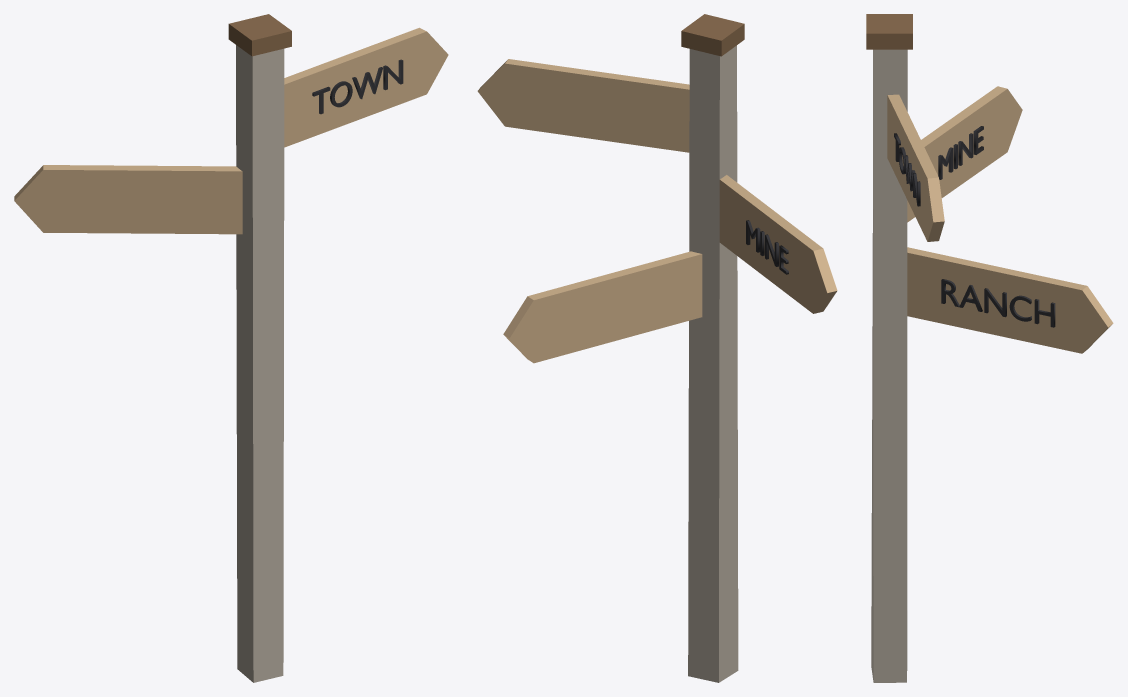
The model's file is SM_Signpost.glb.
3 views of the same model, side by side, from view 1: azimuth 30°, elevation 25°; view 2: azimuth 150°, elevation 25°; view 3: azimuth 270°, elevation 25° (orthographic).
Visible parts, largest first — view 1: SM_Signpost; view 2: SM_Signpost; view 3: SM_Signpost.
Part boxes in pixels (x1,y1,x2,y2): SM_Signpost: (14,14,448,682); SM_Signpost: (477,14,837,682); SM_Signpost: (866,14,1113,682).
Bounding box in the file's own units: 1.58 × 2.46 × 0.8466.
